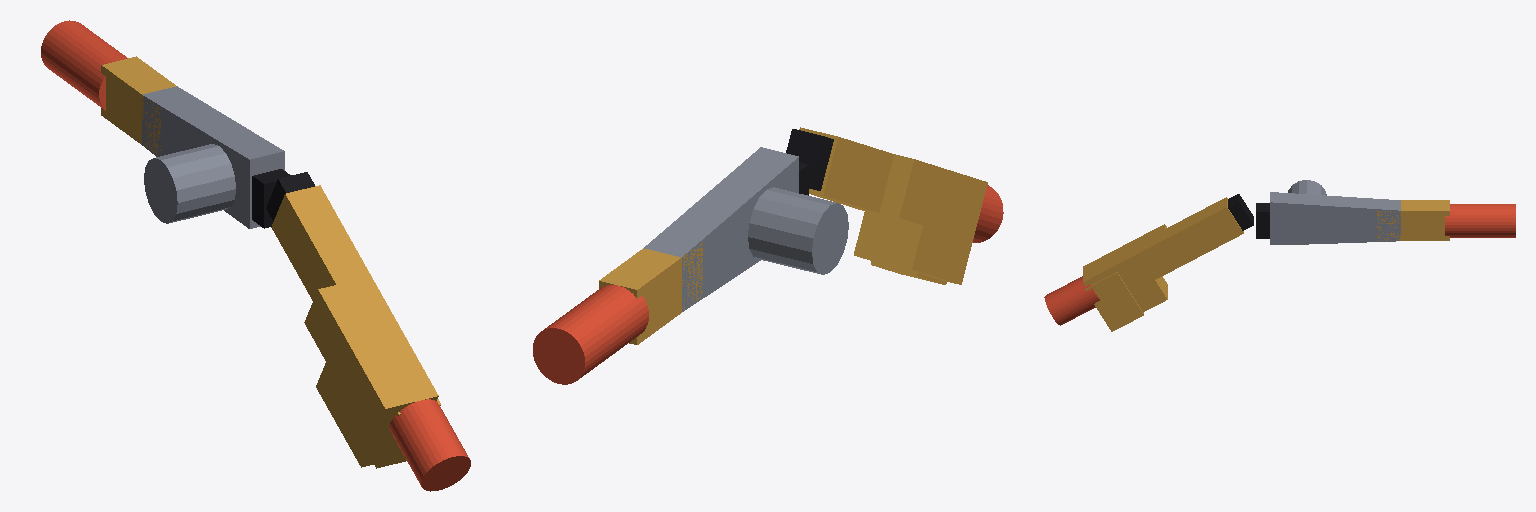
The robot description file, URDF, robot "g0069_c01":
<robot name="g0069_c01">
  <link name="palm">
    <visual name="palm_palm1">
      <origin xyz="0 0 0" rpy="0 0 0" />
      <geometry>
        <mesh filename="palm_palm1.obj" />
      </geometry>
      <material name="palm_palm1_mat">
        <color rgba="0.55 0.57 0.62 1" />
      </material>
    </visual>
    <collision>
      <origin xyz="0 0 0" rpy="0 0 0" />
      <geometry>
        <mesh filename="palm_palm1.obj" />
      </geometry>
    </collision>
    <visual name="palm_mount2">
      <origin xyz="0 0 0" rpy="0 0 0" />
      <geometry>
        <mesh filename="palm_mount2.obj" />
      </geometry>
      <material name="palm_mount2_mat">
        <color rgba="0.55 0.57 0.62 1" />
      </material>
    </visual>
    <collision>
      <origin xyz="0 0 0" rpy="0 0 0" />
      <geometry>
        <mesh filename="palm_mount2.obj" />
      </geometry>
    </collision>
    <visual name="palm_hinge3">
      <origin xyz="0 -0.0325 0" rpy="-0 -1.57079633 0" />
      <geometry>
        <box size="0.029 0.034 0.02" />
      </geometry>
      <material name="palm_hinge3_mat">
        <color rgba="0.15 0.15 0.17 1" />
      </material>
    </visual>
    <collision>
      <origin xyz="0 -0.0325 0" rpy="-0 -1.57079633 0" />
      <geometry>
        <box size="0.029 0.034 0.02" />
      </geometry>
    </collision>
    <visual name="palm_motor4">
      <origin xyz="0 0.0725 -4.5924255e-19" rpy="-3.14159265 1.57079633 0" />
      <geometry>
        <box size="0.029 0.034 0.02" />
      </geometry>
      <material name="palm_motor4_mat">
        <color rgba="0.15 0.15 0.17 1" />
      </material>
    </visual>
    <collision>
      <origin xyz="0 0.0725 -4.5924255e-19" rpy="-3.14159265 1.57079633 0" />
      <geometry>
        <box size="0.029 0.034 0.02" />
      </geometry>
    </collision>
    <inertial>
      <origin xyz="2.91016304e-19 0.0244510736 0.00118427223" rpy="1.57079633 0.0221922514 1.57079633" />
      <mass value="0.212231474" />
      <inertia ixx="3.88190172e-05" ixy="0" ixz="0" iyy="0.000292598986" iyz="0" izz="0.000311043781" />
    </inertial>
  </link>
  <link name="palm0">
    <visual name="palm0_palm1">
      <origin xyz="0 0 0" rpy="0 0 0" />
      <geometry>
        <mesh filename="palm0_palm1.obj" />
      </geometry>
      <material name="palm0_palm1_mat">
        <color rgba="0.55 0.57 0.62 1" />
      </material>
    </visual>
    <collision>
      <origin xyz="0 0 0" rpy="0 0 0" />
      <geometry>
        <mesh filename="palm0_palm1.obj" />
      </geometry>
    </collision>
    <visual name="palm0_motor2">
      <origin xyz="0 -0.0335048095 0.00375" rpy="1.57079633 -1.04719755 -1.57079633" />
      <geometry>
        <box size="0.029 0.034 0.02" />
      </geometry>
      <material name="palm0_motor2_mat">
        <color rgba="0.15 0.15 0.17 1" />
      </material>
    </visual>
    <collision>
      <origin xyz="0 -0.0335048095 0.00375" rpy="1.57079633 -1.04719755 -1.57079633" />
      <geometry>
        <box size="0.029 0.034 0.02" />
      </geometry>
    </collision>
    <inertial>
      <origin xyz="0 -0.0263791201 0.00252648915" rpy="1.57079633 -0.334712636 1.57079633" />
      <mass value="0.0840528841" />
      <inertia ixx="1.68882582e-05" ixy="0" ixz="0" iyy="1.92685359e-05" iyz="0" izz="2.80877172e-05" />
    </inertial>
  </link>
  <link name="f0_link0">
    <visual name="f0_link0_link1">
      <origin xyz="0.03375 0 0" rpy="0 -3.98552134e-18 0" />
      <geometry>
        <box size="0.0915 0.024 0.033" />
      </geometry>
      <material name="f0_link0_link1_mat">
        <color rgba="0.80 0.62 0.30 1" />
      </material>
    </visual>
    <collision>
      <origin xyz="0.03375 0 0" rpy="0 -3.98552134e-18 0" />
      <geometry>
        <box size="0.0915 0.024 0.033" />
      </geometry>
    </collision>
    <inertial>
      <origin xyz="0.03375 0 0" rpy="0 0 0" />
      <mass value="0.126819" />
      <inertia ixx="1.75961363e-05" ixy="0" ixz="0" iyy="9.99888553e-05" iyz="0" izz="9.45673431e-05" />
    </inertial>
  </link>
  <link name="f0_link1">
    <visual name="f0_link1_link1">
      <origin xyz="0.014 -0.00625 -6.9388939e-18" rpy="0 -3.98552134e-18 0" />
      <geometry>
        <box size="0.052 0.0365 0.033" />
      </geometry>
      <material name="f0_link1_link1_mat">
        <color rgba="0.80 0.62 0.30 1" />
      </material>
    </visual>
    <collision>
      <origin xyz="0.014 -0.00625 -6.9388939e-18" rpy="0 -3.98552134e-18 0" />
      <geometry>
        <box size="0.052 0.0365 0.033" />
      </geometry>
    </collision>
    <inertial>
      <origin xyz="0.014 -0.00625 0" rpy="0 0 0" />
      <mass value="0.1096095" />
      <inertia ixx="2.21160002e-05" ixy="0" ixz="0" iyy="3.46457361e-05" iyz="0" izz="3.6867612e-05" />
    </inertial>
  </link>
  <link name="f0_link2">
    <visual name="f0_link2_link1">
      <origin xyz="0.019 -0.00625 -0.01225" rpy="0 -3.98552134e-18 0" />
      <geometry>
        <box size="0.062 0.0365 0.0575" />
      </geometry>
      <material name="f0_link2_link1_mat">
        <color rgba="0.80 0.62 0.30 1" />
      </material>
    </visual>
    <collision>
      <origin xyz="0.019 -0.00625 -0.01225" rpy="0 -3.98552134e-18 0" />
      <geometry>
        <box size="0.062 0.0365 0.0575" />
      </geometry>
    </collision>
    <inertial>
      <origin xyz="0.019 -0.00625 -0.01225" rpy="0 0 0" />
      <mass value="0.227714375" />
      <inertia ixx="8.8021094e-05" ixy="0" ixz="0" iyy="0.000135684559" iyz="0" izz="9.82255445e-05" />
    </inertial>
  </link>
  <link name="f0_link3">
    <visual name="f0_link3_link1">
      <origin xyz="-0.00625 0 -0.0165" rpy="0 -3.98552134e-18 0" />
      <geometry>
        <box size="0.0365 0.029 0.053" />
      </geometry>
      <material name="f0_link3_link1_mat">
        <color rgba="0.80 0.62 0.30 1" />
      </material>
    </visual>
    <collision>
      <origin xyz="-0.00625 0 -0.0165" rpy="0 -3.98552134e-18 0" />
      <geometry>
        <box size="0.0365 0.029 0.053" />
      </geometry>
    </collision>
    <inertial>
      <origin xyz="-0.00625 0 -0.0165" rpy="0 0 0" />
      <mass value="0.098175875" />
      <inertia ixx="2.98618286e-05" ixy="0" ixz="0" iyy="3.38809035e-05" iyz="0" izz="1.778006e-05" />
    </inertial>
  </link>
  <link name="f0_link4">
    <visual name="f0_link4_link1">
      <origin xyz="0.029 0 3.46944695e-18" rpy="-1.57079633 -0 -1.57079633" />
      <geometry>
        <cylinder radius="0.0165" length="0.049" />
      </geometry>
      <material name="f0_link4_link1_mat">
        <color rgba="0.85 0.35 0.25 1" />
      </material>
    </visual>
    <collision>
      <origin xyz="0.029 0 3.46944695e-18" rpy="-1.57079633 -0 -1.57079633" />
      <geometry>
        <cylinder radius="0.0165" length="0.049" />
      </geometry>
    </collision>
    <inertial>
      <origin xyz="0.029 0 0" rpy="0 0 0" />
      <mass value="0.106270851" />
      <inertia ixx="1.35696277e-05" ixy="0" ixz="0" iyy="5.30015704e-05" iyz="0" izz="5.30015704e-05" />
    </inertial>
  </link>
  <link name="f1_link0">
    <visual name="f1_link0_link1">
      <origin xyz="0.02375 0 7.70371978e-34" rpy="0 -0 0" />
      <geometry>
        <box size="0.0715 0.024 0.033" />
      </geometry>
      <material name="f1_link0_link1_mat">
        <color rgba="0.80 0.62 0.30 1" />
      </material>
    </visual>
    <collision>
      <origin xyz="0.02375 0 7.70371978e-34" rpy="0 -0 0" />
      <geometry>
        <box size="0.0715 0.024 0.033" />
      </geometry>
    </collision>
    <inertial>
      <origin xyz="0.02375 0 0" rpy="0 0 0" />
      <mass value="0.099099" />
      <inertia ixx="1.37499863e-05" ixy="0" ixz="0" iyy="5.12114728e-05" iyz="0" izz="4.69749906e-05" />
    </inertial>
  </link>
  <link name="f1_link1">
    <visual name="f1_link1_link1">
      <origin xyz="0.039 0 -7.70371978e-34" rpy="-1.57079633 -0 -1.57079633" />
      <geometry>
        <cylinder radius="0.0165" length="0.069" />
      </geometry>
      <material name="f1_link1_link1_mat">
        <color rgba="0.85 0.35 0.25 1" />
      </material>
    </visual>
    <collision>
      <origin xyz="0.039 0 -7.70371978e-34" rpy="-1.57079633 -0 -1.57079633" />
      <geometry>
        <cylinder radius="0.0165" length="0.069" />
      </geometry>
    </collision>
    <inertial>
      <origin xyz="0.039 0 0" rpy="0 0 0" />
      <mass value="0.136206302" />
      <inertia ixx="1.76445909e-05" ixy="0" ixz="0" iyy="0.000104842911" iyz="0" izz="0.000104842911" />
    </inertial>
  </link>
  <joint name="palm0_joint" type="revolute">
    <parent link="palm" />
    <child link="palm0" />
    <origin xyz="0 -0.04 0" rpy="0 0 0" />
    <axis xyz="0 0 1" />
    <limit effort="0.5" lower="-0.523598776" upper="0.523598776" velocity="5" />
    <dynamics damping="0.0775033" friction="0" />
  </joint>
  <joint name="f0_j0" type="revolute">
    <parent link="palm0" />
    <child link="f0_link0" />
    <origin xyz="0 -0.04 0" rpy="0 0.523598776 -1.57079633" />
    <axis xyz="0 0 1" />
    <limit effort="0.5" lower="-0.523598776" upper="1.57079633" velocity="5" />
    <dynamics damping="0.0775033" friction="0" />
  </joint>
  <joint name="f0_j1" type="revolute">
    <parent link="f0_link0" />
    <child link="f0_link1" />
    <origin xyz="0.07 0 0" rpy="0 0 0" />
    <axis xyz="0 0 1" />
    <limit effort="0.5" lower="-0.523598776" upper="1.57079633" velocity="5" />
    <dynamics damping="0.0775033" friction="0" />
  </joint>
  <joint name="f0_j2" type="revolute">
    <parent link="f0_link1" />
    <child link="f0_link2" />
    <origin xyz="0.03 0 0" rpy="0 0 0" />
    <axis xyz="0 0 1" />
    <limit effort="0.5" lower="-0.523598776" upper="1.57079633" velocity="5" />
    <dynamics damping="0.0775033" friction="0" />
  </joint>
  <joint name="f0_j3" type="revolute">
    <parent link="f0_link2" />
    <child link="f0_link3" />
    <origin xyz="0.04 0 0" rpy="0 0 0" />
    <axis xyz="0 0 1" />
    <limit effort="0.5" lower="-0.523598776" upper="1.57079633" velocity="5" />
    <dynamics damping="0.0775033" friction="0" />
  </joint>
  <joint name="f0_j4" type="revolute">
    <parent link="f0_link3" />
    <child link="f0_link4" />
    <origin xyz="0 0 0" rpy="0 0 0" />
    <axis xyz="0 1 6.123234e-17" />
    <limit effort="0.5" lower="-0.523598776" upper="0.523598776" velocity="5" />
    <dynamics damping="0.0775033" friction="0" />
  </joint>
  <joint name="f1_j0" type="revolute">
    <parent link="palm" />
    <child link="f1_link0" />
    <origin xyz="0 0.08 0" rpy="-3.14159265 -6.123234e-17 1.57079633" />
    <axis xyz="0 0 1" />
    <limit effort="0.5" lower="-0.523598776" upper="1.57079633" velocity="5" />
    <dynamics damping="0.0775033" friction="0" />
  </joint>
  <joint name="f1_j1" type="revolute">
    <parent link="f1_link0" />
    <child link="f1_link1" />
    <origin xyz="0.05 0 0" rpy="0 0 0" />
    <axis xyz="0 0 1" />
    <limit effort="0.5" lower="-0.523598776" upper="1.57079633" velocity="5" />
    <dynamics damping="0.0775033" friction="0" />
  </joint>
</robot>

--- Facts derived from the render (not from the file) ---
The picture shows the robot from 3 angles, left to right: view 1: azimuth 30°, elevation 25°; view 2: azimuth 150°, elevation 25°; view 3: azimuth 270°, elevation 25°; orthographic projection.
Model g0069_c01 with 9 links and 8 joints (8 revolute), rooted at palm, posed every joint at zero.
Visible links, largest first — view 1: palm, f0_link2, f0_link0, f0_link4, f1_link1, f0_link1, f1_link0, palm0, f0_link3; view 2: palm, f0_link2, f1_link1, f1_link0, f0_link0, f0_link1, palm0, f0_link4; view 3: palm, f0_link0, f1_link1, f0_link2, f1_link0, f0_link3, f0_link4, f0_link1, palm0.
Link boxes in pixels (bbox=[...]): palm: bbox=[142, 86, 290, 228]; f0_link2: bbox=[316, 316, 438, 467]; f0_link0: bbox=[271, 185, 386, 312]; f0_link4: bbox=[389, 399, 470, 491]; f1_link1: bbox=[41, 20, 127, 110]; f0_link1: bbox=[304, 277, 406, 389]; f1_link0: bbox=[101, 56, 175, 155]; palm0: bbox=[266, 172, 314, 221]; f0_link3: bbox=[374, 399, 440, 468]; palm: bbox=[644, 147, 848, 311]; f0_link2: bbox=[854, 167, 987, 284]; f1_link1: bbox=[533, 285, 648, 384]; f1_link0: bbox=[599, 242, 702, 344]; f0_link0: bbox=[799, 127, 895, 218]; f0_link1: bbox=[858, 154, 955, 225]; palm0: bbox=[786, 129, 833, 190]; f0_link4: bbox=[973, 185, 1003, 242]; palm: bbox=[1256, 180, 1400, 244]; f0_link0: bbox=[1146, 197, 1243, 273]; f1_link1: bbox=[1445, 204, 1515, 237]; f0_link2: bbox=[1083, 238, 1167, 312]; f1_link0: bbox=[1377, 200, 1449, 240]; f0_link3: bbox=[1085, 272, 1143, 331]; f0_link4: bbox=[1044, 276, 1099, 325]; f0_link1: bbox=[1119, 224, 1180, 289]; palm0: bbox=[1228, 194, 1253, 230].
Size in the robot's own frame: 0.0685 by 0.4593 by 0.1387 metres.
2 mesh visuals loaded from 3 distinct referenced files (2 OBJ); not drawn: 1 (reference not matched to a file when rendering).
